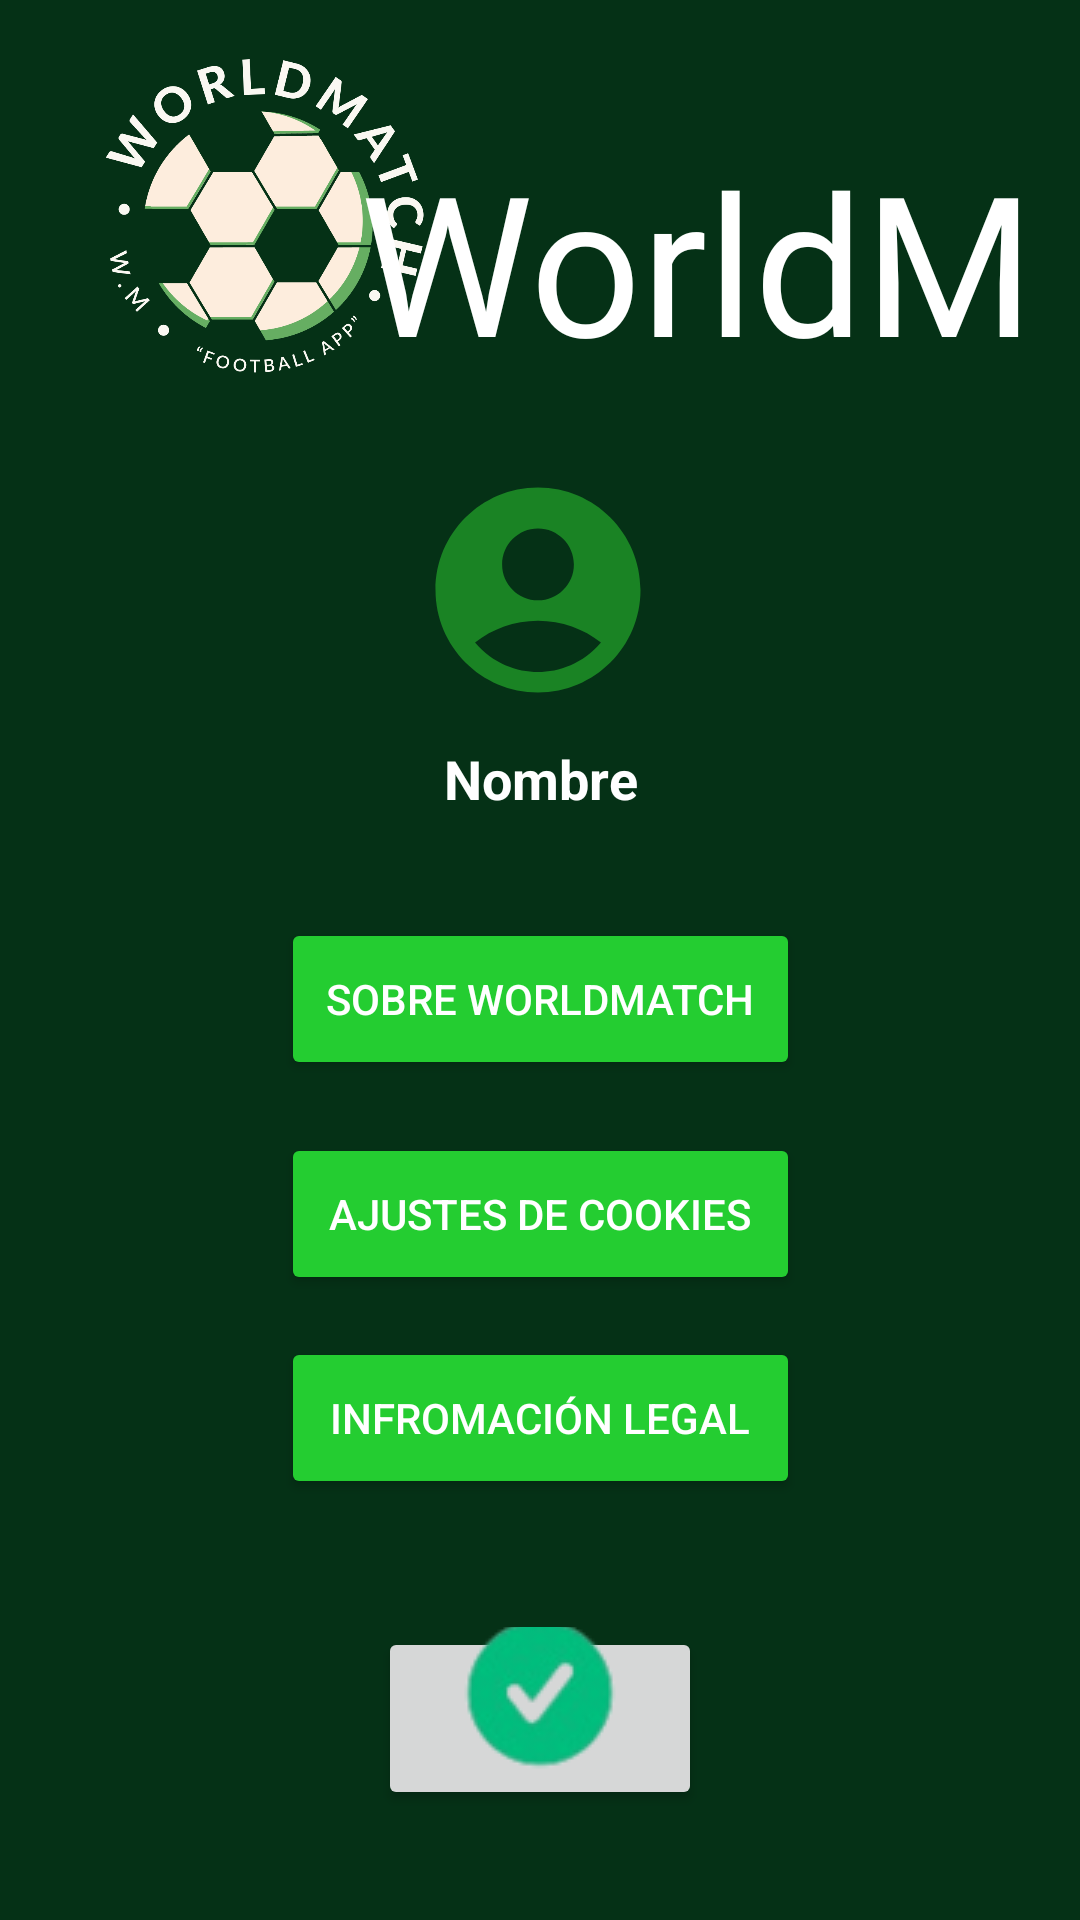

Icons on this 1080*1920 Android screen, each with the point to tap as (x,y):
persona: (538,590)
